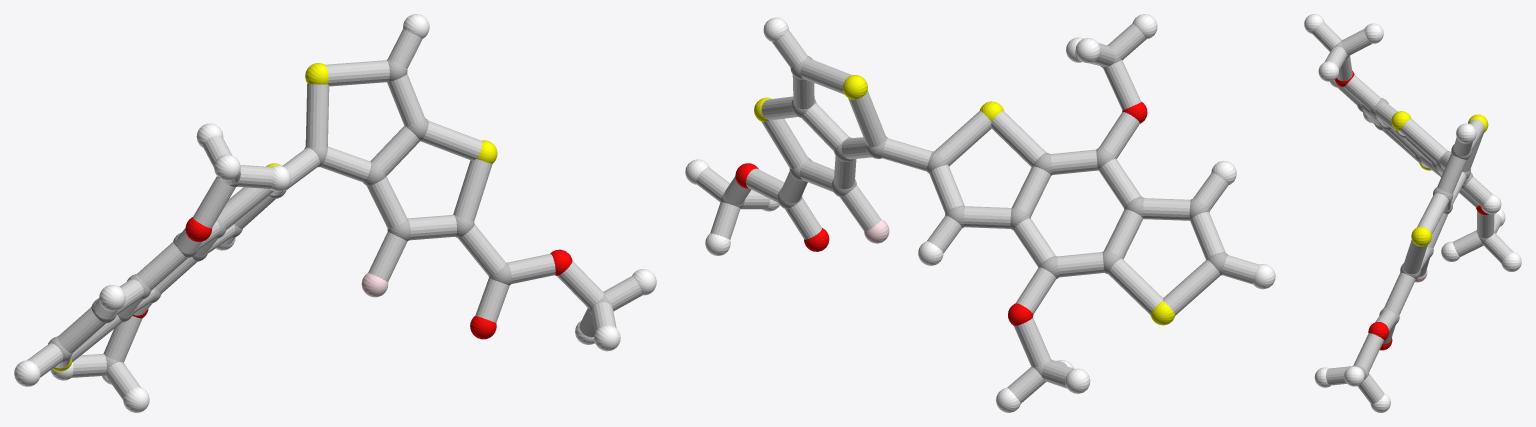
File: color.glb
The picture shows the model from 3 angles, left to right: view 1: azimuth 30°, elevation 25°; view 2: azimuth 150°, elevation 25°; view 3: azimuth 270°, elevation 25°; orthographic projection. The views are drawn at different scales.
Visible parts, largest first — view 1: grp15205, grp8689, grp1, grp13395, grp7241; view 2: grp15205, grp8689, grp1, grp7241, grp13395; view 3: grp15205, grp8689, grp1, grp7241, grp13395.
Boxes of the visible parts, <box> form: grp15205: <box>27,29,642,399</box>; grp8689: <box>14,14,656,412</box>; grp1: <box>48,59,610,376</box>; grp13395: <box>132,217,572,339</box>; grp7241: <box>52,63,497,371</box>; grp15205: <box>696,23,1258,403</box>; grp8689: <box>685,14,1275,412</box>; grp1: <box>720,45,1227,381</box>; grp7241: <box>754,75,1174,325</box>; grp13395: <box>735,102,1147,325</box>; grp15205: <box>1312,22,1513,403</box>; grp8689: <box>1304,14,1521,412</box>; grp1: <box>1334,41,1495,378</box>; grp7241: <box>1391,111,1488,246</box>; grp13395: <box>1335,71,1488,350</box>.
Bounding box in the file's own units: 16.28 × 8.07 × 6.35.
